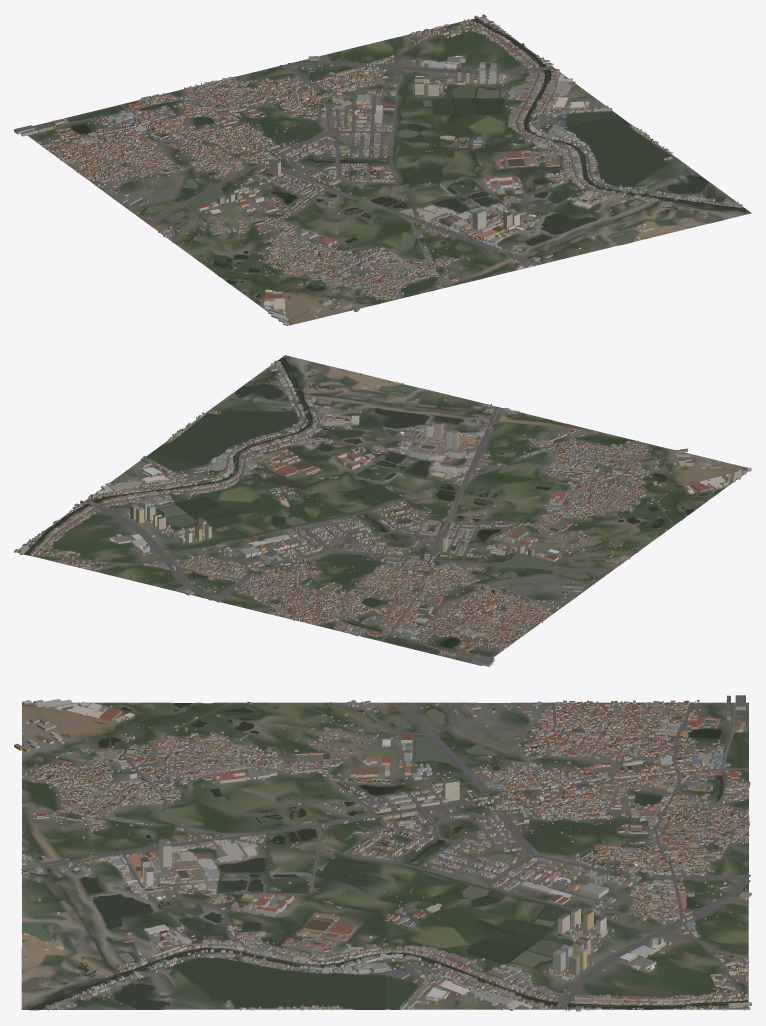
3 renders of one model, top to bottom at view 1: azimuth 30°, elevation 25°; view 2: azimuth 150°, elevation 25°; view 3: azimuth 270°, elevation 25°, orthographic. The views are drawn at different scales.
Parts seen in each view (by area): view 1: ground, buildings, water, roads; view 2: ground, buildings, water, roads; view 3: ground, buildings, water, roads.
Part boxes in pixels (x1,y1,x2,y2): ground: (27, 16, 751, 325); buildings: (14, 14, 742, 325); water: (71, 18, 748, 304); roads: (39, 20, 747, 298); ground: (16, 355, 751, 665); buildings: (14, 360, 751, 666); water: (24, 357, 707, 648); roads: (33, 356, 674, 665); ground: (21, 702, 748, 1010); buildings: (14, 695, 751, 1011); water: (22, 703, 748, 1010); roads: (21, 702, 750, 1009).
Bounding box in the file's own units: 2856 × 99.18 × 2846.
